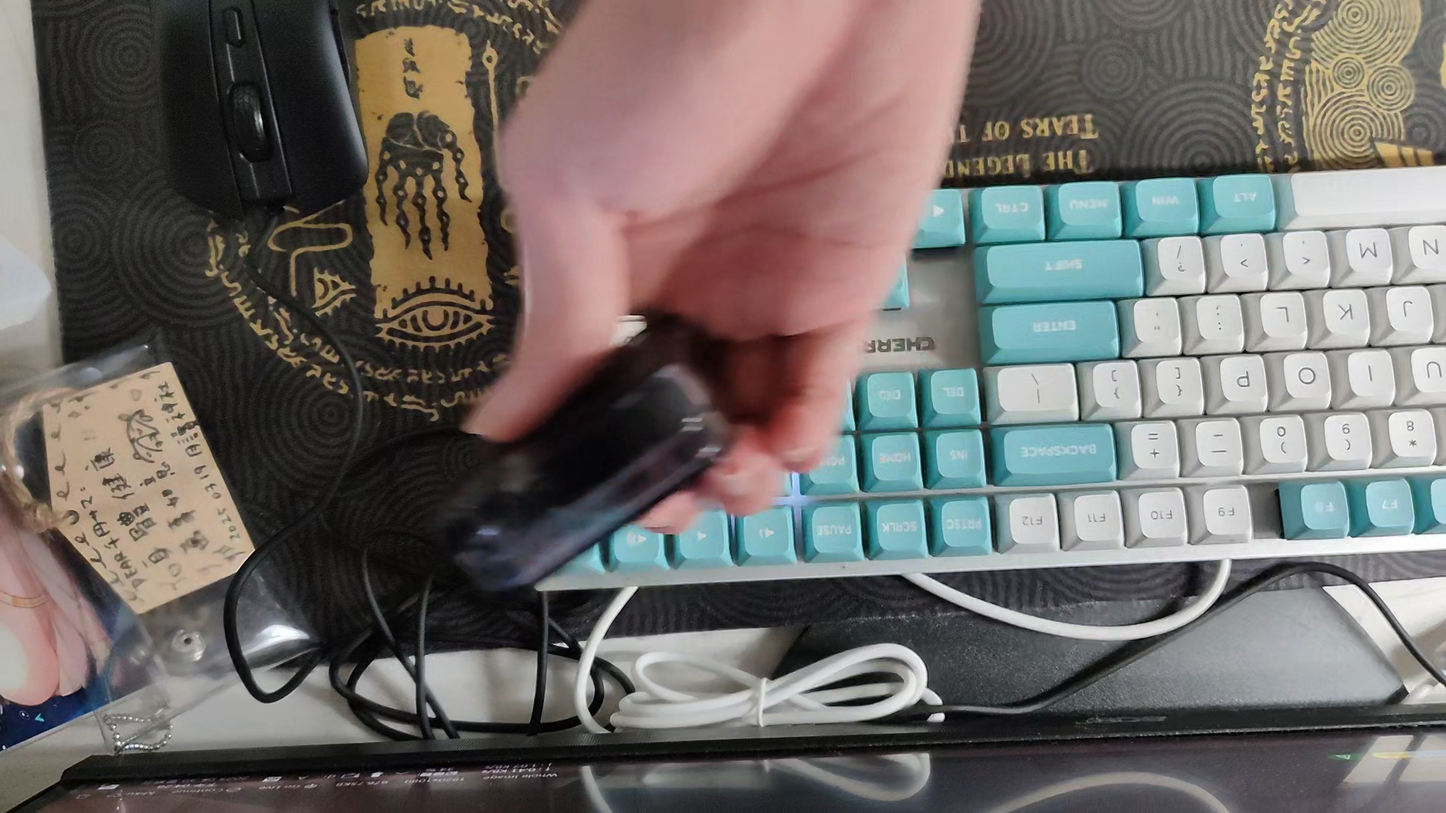Wireless_earphone: (437, 312, 739, 604)
